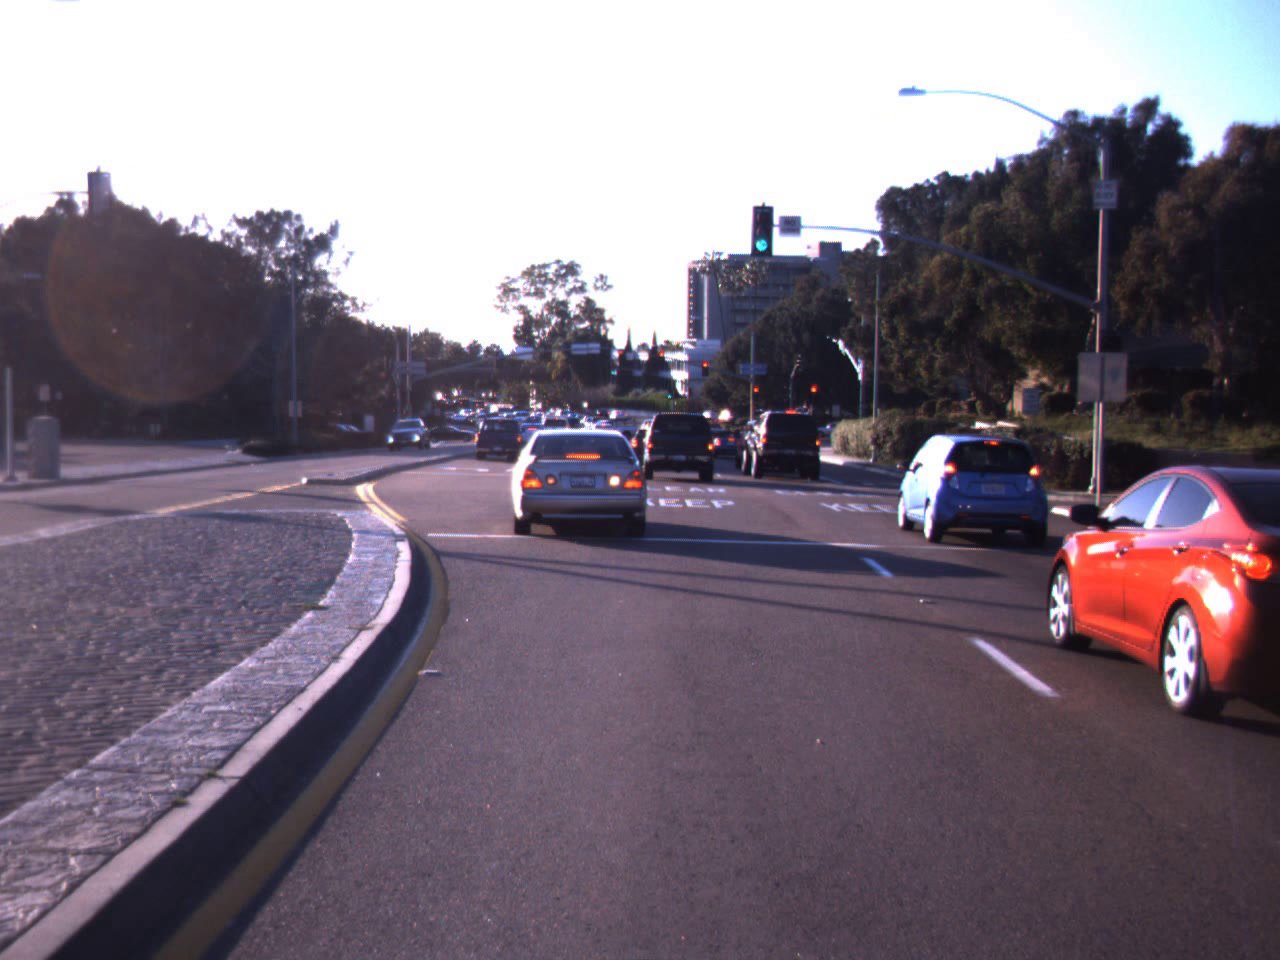go: (746, 206, 776, 256)
